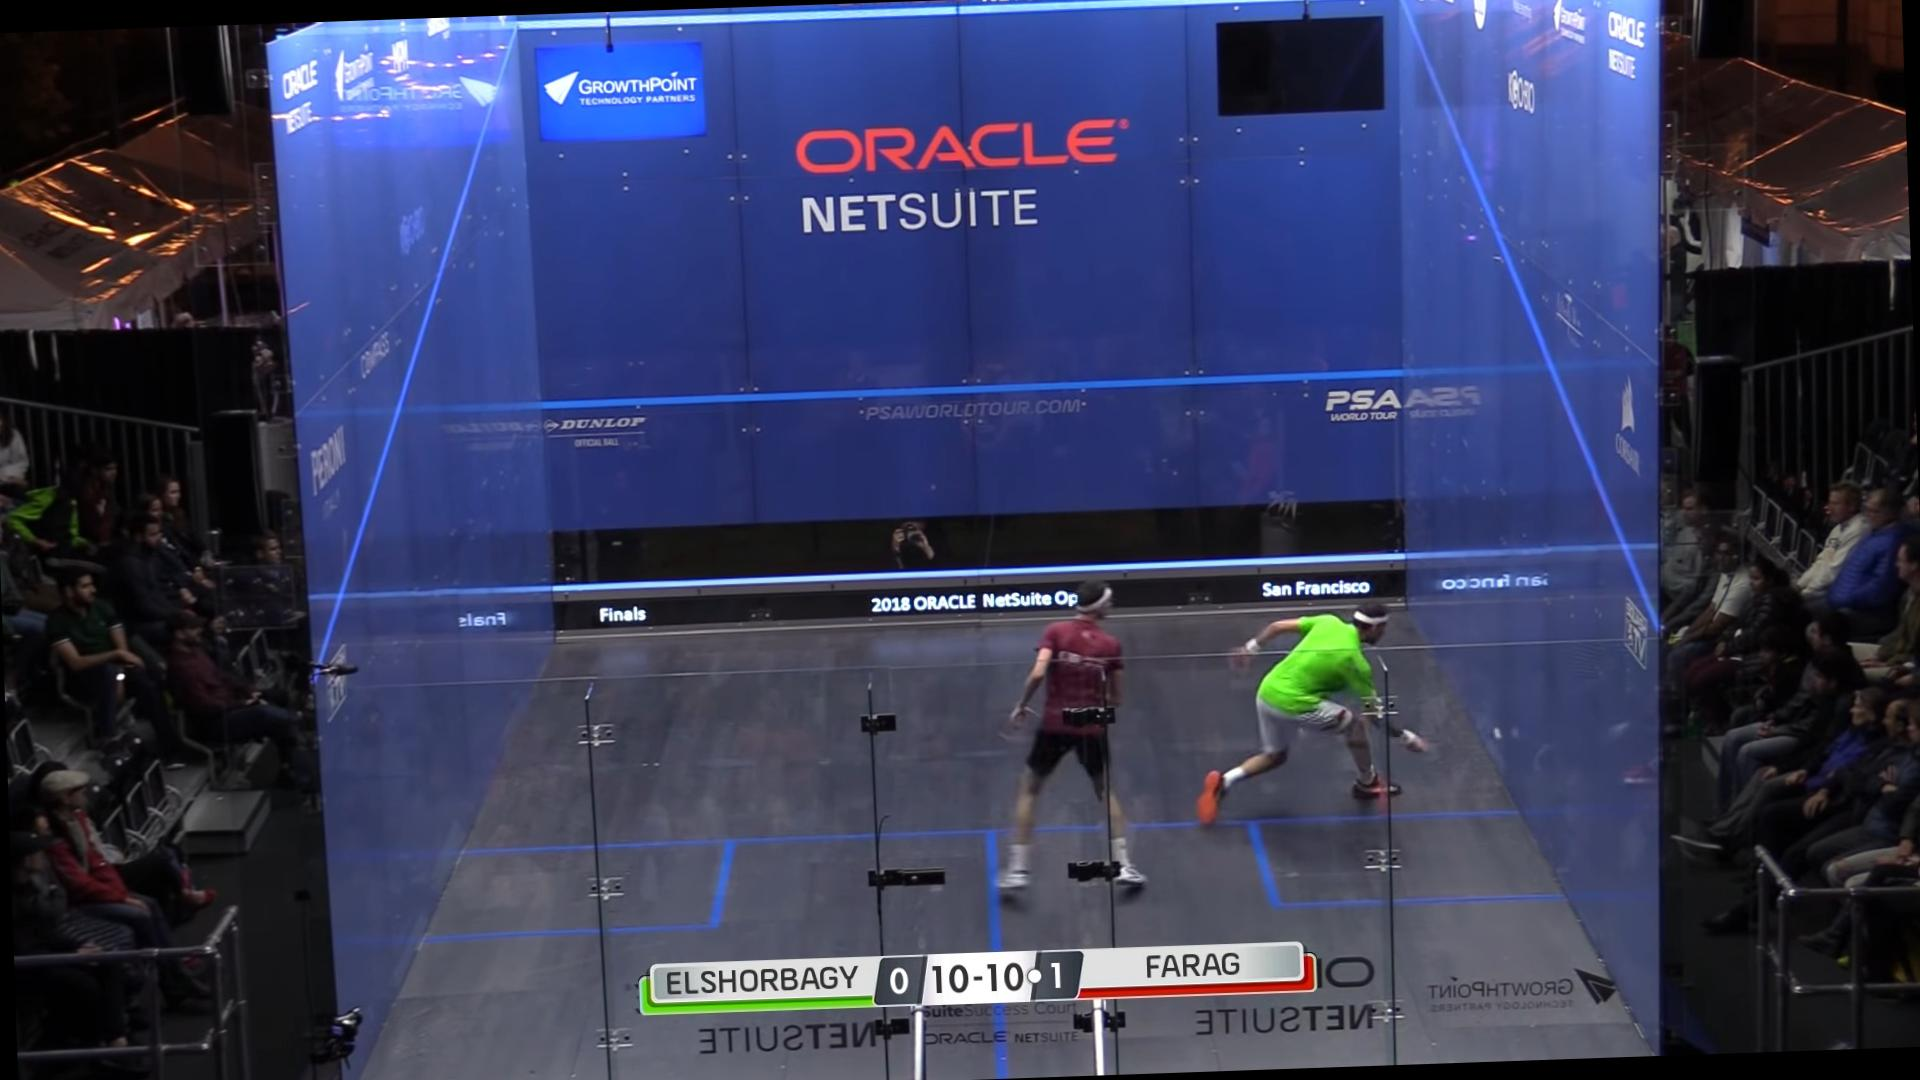Squash-Ball: (1485, 720, 1514, 750)
